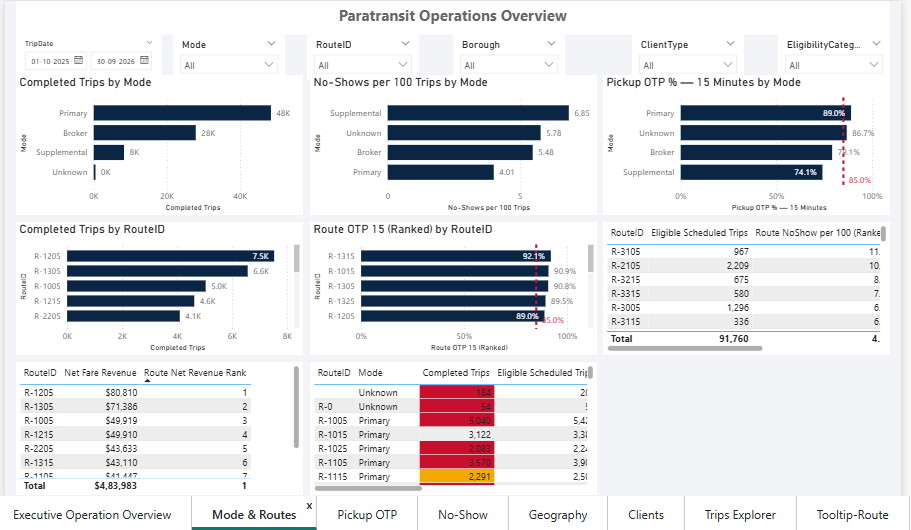

The dashboard page shown, as its layout file describes it:
{"tool":"powerbi","page":{"name":"Mode & Routes","canvas":[1280,720],"ordinal":1},"visuals":[{"type":"textbox","box":[16,0,1248,48],"z":0},{"type":"slicer","fields":{"Values":["Trips.TripDate"]},"box":[16,48,208,64],"z":1000},{"type":"slicer","fields":{"Values":["Trips.Mode"]},"box":[240,48,160,64],"z":2000},{"type":"slicer","fields":{"Values":["Trips.RouteID"]},"box":[432,48,160,64],"z":3000},{"type":"slicer","fields":{"Values":["Trips.Borough"]},"box":[640,48,160,64],"z":4000},{"type":"slicer","fields":{"Values":["Clients.ClientType"]},"box":[896,48,160,64],"z":5000},{"type":"slicer","fields":{"Values":["Clients.EligibilityCategory"]},"box":[1104,48,160,64],"z":6000},{"type":"clusteredBarChart","fields":{"Category":["Trips.Mode"],"Y":["Trips.Completed Trips"]},"box":[16,106,410,200],"z":7000},{"type":"clusteredBarChart","fields":{"Category":["Trips.Mode"],"Y":["Trips.No-Shows per 100 Trips"]},"box":[435,106,410,200],"z":8000},{"type":"clusteredBarChart","fields":{"Category":["Trips.Mode"],"Y":["Trips.Pickup OTP % — 15 Minutes"]},"box":[854,106,410,200],"z":9000},{"type":"clusteredBarChart","fields":{"Category":["Trips.RouteID"],"Y":["Trips.Completed Trips"]},"box":[16,316,410,190],"z":10000},{"type":"clusteredBarChart","fields":{"Category":["Trips.RouteID"],"Y":["Trips.Route OTP 15 (Ranked)"]},"box":[435,316,410,190],"z":11000},{"type":"tableEx","fields":{"Values":["Trips.RouteID","Trips.Eligible Scheduled Trips","Trips.Route NoShow per 100 (Ranked)","Trips.NoShow 95% Margin","Trips.Route No-Show Rank"]},"box":[854,316,410,190],"z":12000},{"type":"tableEx","fields":{"Values":["Trips.RouteID","Trips.Net Fare Revenue","Trips.Route Net Revenue Rank"]},"box":[16,516,410,190],"z":13000},{"type":"tableEx","fields":{"Values":["Trips.RouteID","Trips.Mode","Trips.Completed Trips","Trips.Eligible Scheduled Trips","Trips.No-Shows per 100 Trips","Trips.NoShow 95% Margin","Trips.Pickup OTP % — 15 Minutes","Trips.Net Fare Revenue"]},"box":[435,516,410,190],"z":14000}]}

Visuals, with their boxes on the page's 1280x720 design canvas (x1, y1, x2, y2). These are canvas units, not pixel positions in the 911x530 screenshot, which may show the page scaled, cropped or inside an application window:
textbox: (16,0,1264,48)
slicer - Trips.TripDate: (16,48,224,112)
slicer - Trips.Mode: (240,48,400,112)
slicer - Trips.RouteID: (432,48,592,112)
slicer - Trips.Borough: (640,48,800,112)
slicer - Clients.ClientType: (896,48,1056,112)
slicer - Clients.EligibilityCategory: (1104,48,1264,112)
clusteredBarChart - Trips.Mode x Trips.Completed Trips: (16,106,426,306)
clusteredBarChart - Trips.Mode x Trips.No-Shows per 100 Trips: (435,106,845,306)
clusteredBarChart - Trips.Mode x Trips.Pickup OTP % — 15 Minutes: (854,106,1264,306)
clusteredBarChart - Trips.RouteID x Trips.Completed Trips: (16,316,426,506)
clusteredBarChart - Trips.RouteID x Trips.Route OTP 15 (Ranked): (435,316,845,506)
tableEx - Trips.RouteID x Trips.Eligible Scheduled Trips: (854,316,1264,506)
tableEx - Trips.RouteID x Trips.Net Fare Revenue: (16,516,426,706)
tableEx - Trips.RouteID x Trips.Mode: (435,516,845,706)
